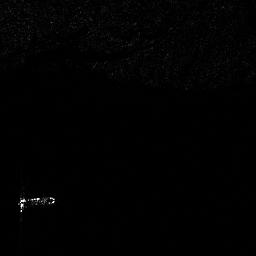ship: (15, 191, 60, 217)
